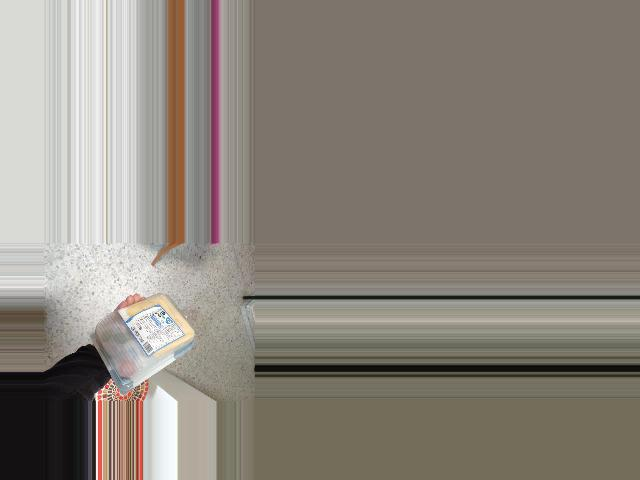cheese: (100, 294, 193, 379)
